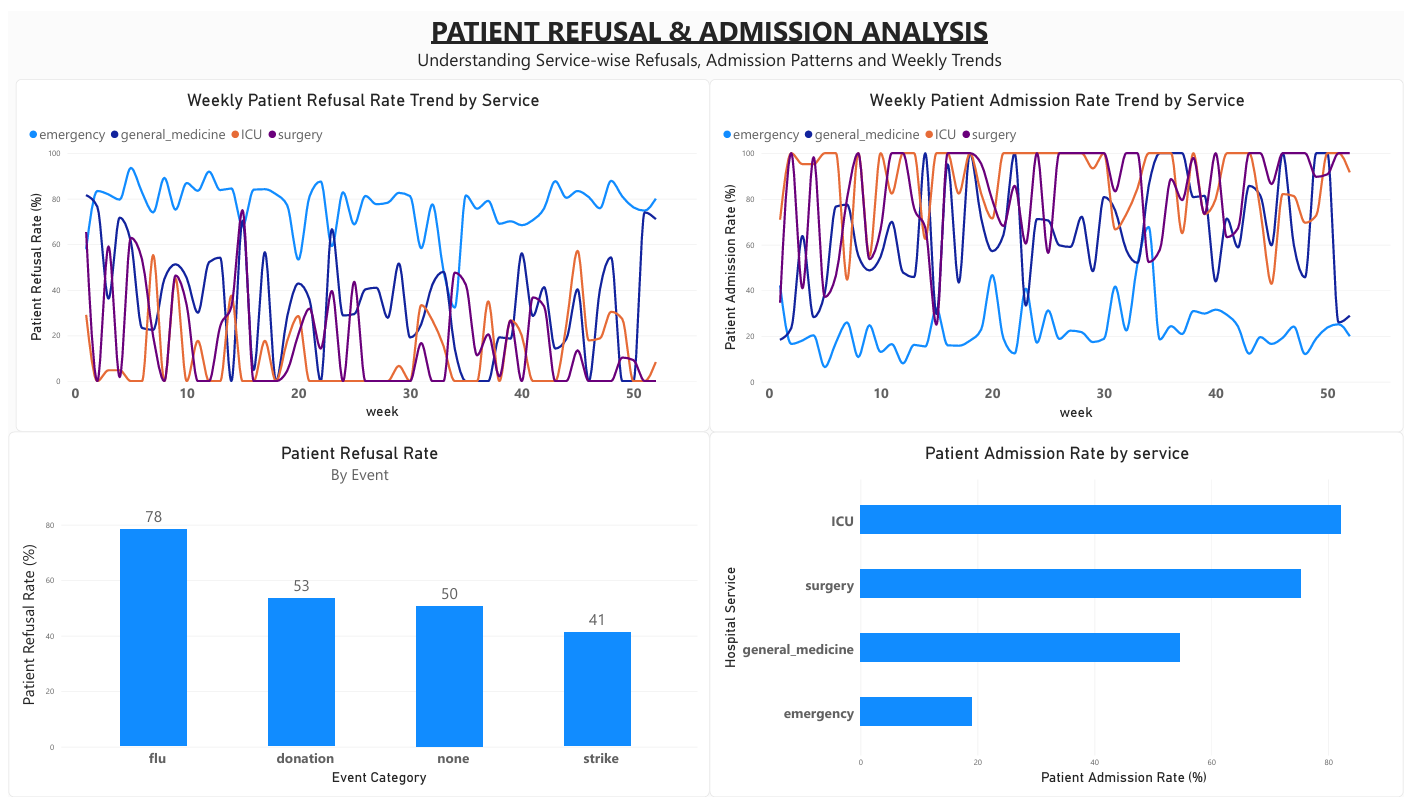

This screenshot's page, from the dashboard's own definition file:
{"tool":"powerbi","page":{"name":"Patient Refusal Analysis","canvas":[1920,1080],"ordinal":2},"visuals":[{"type":"textbox","box":[10.3,0,1910.1,92.6],"z":0},{"type":"lineChart","title":"Weekly Patient Refusal Rate Trend by Service","fields":{"Category":["Hospital_Operations_Analysis - Services_weekly_SQL.week"],"Series":["Dim_service.service"],"Y":["Hospital_Operations_Analysis - Services_weekly_SQL.Overall Refusal Rate"]},"box":[10.3,92.6,955.1,485.8],"z":1000},{"type":"clusteredColumnChart","title":"Patient Refusal Rate","fields":{"Category":["Hospital_Operations_Analysis - Services_weekly_SQL.event"],"Y":["Hospital_Operations_Analysis - Services_weekly_SQL.Overall Refusal Rate"]},"box":[0,578.4,965.4,502.2],"z":2000},{"type":"clusteredBarChart","title":"Patient Admission Rate by service","fields":{"Category":["Dim_service.service"],"Y":["Hospital_Operations_Analysis - Services_weekly_SQL.Service Admission Rate"]},"box":[965.4,578.4,955.1,502.2],"z":3000},{"type":"lineChart","title":"Weekly Patient Admission Rate Trend by Service  ","fields":{"Category":["Hospital_Operations_Analysis - Services_weekly_SQL.week"],"Series":["Dim_service.service"],"Y":["Hospital_Operations_Analysis - Services_weekly_SQL.Service Admission Rate"]},"box":[965,93,955,486],"z":4000}]}

Visuals, with their boxes in screenshot pixels (x1, y1, x2, y2), scaled from the page's 1920x1080 canvas onto the 1409x806 screenshot:
textbox: {"x1": 8, "y1": 0, "x2": 1408, "y2": 69}
"Weekly Patient Refusal Rate Trend by Service" lineChart: {"x1": 8, "y1": 69, "x2": 708, "y2": 432}
"Patient Refusal Rate" clusteredColumnChart: {"x1": 0, "y1": 432, "x2": 708, "y2": 805}
"Patient Admission Rate by service" clusteredBarChart: {"x1": 708, "y1": 432, "x2": 1408, "y2": 805}
"Weekly Patient Admission Rate Trend by Service  " lineChart: {"x1": 708, "y1": 69, "x2": 1408, "y2": 432}
